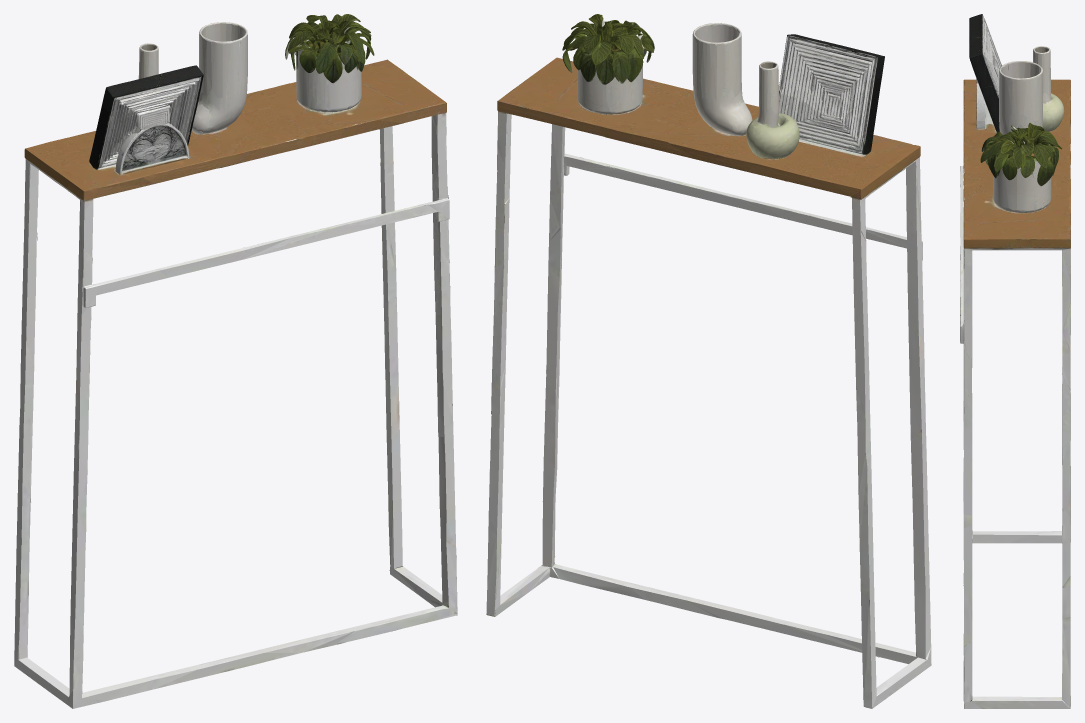
The model's file is theyamazakihome-com-products-tower-narrow-entryway-console-t-8f3820.glb.
3 views of the same model, side by side, from view 1: azimuth 30°, elevation 25°; view 2: azimuth 150°, elevation 25°; view 3: azimuth 270°, elevation 25° (orthographic). The views are drawn at different scales.
Visible parts, largest first — view 1: Mesh_0; view 2: Mesh_0; view 3: Mesh_0.
Boxes of the visible parts, x1,y1,x2,y2 form: Mesh_0: [14, 14, 457, 708]; Mesh_0: [486, 14, 931, 708]; Mesh_0: [960, 14, 1070, 708].
Size of the model in its own units: 1.26 by 1.9 by 0.3475.
Materials: 1 (1 with a texture image).
